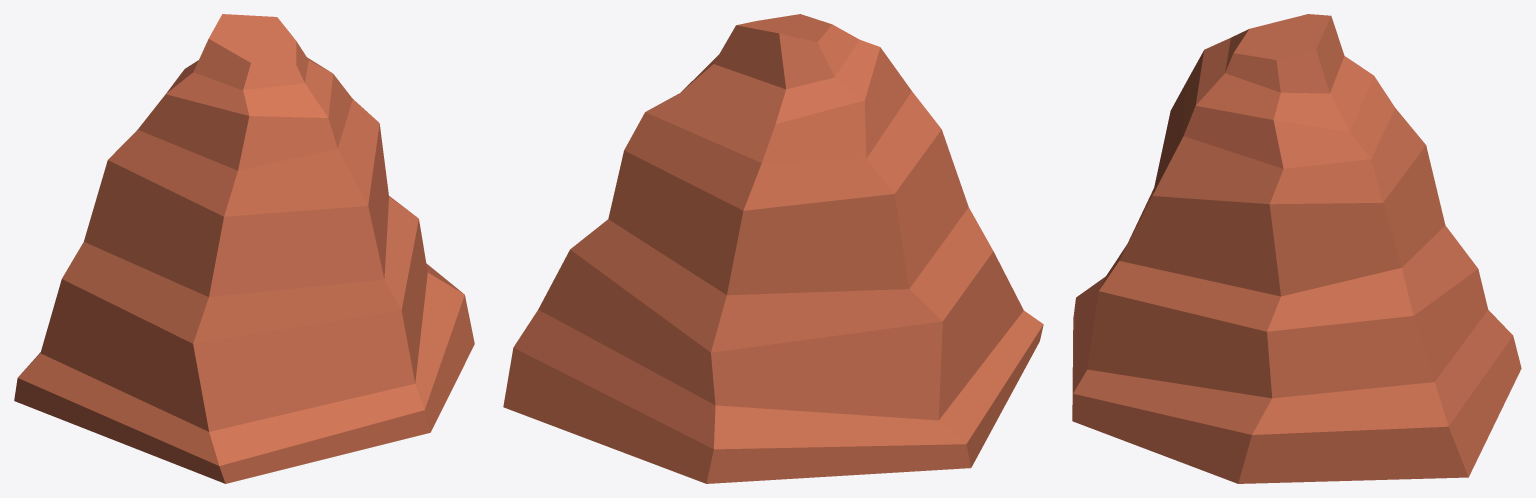
File: Rock_Mesa_Large_1.fbx
3 views of the same model, side by side, from view 1: azimuth 30°, elevation 25°; view 2: azimuth 150°, elevation 25°; view 3: azimuth 270°, elevation 25° (orthographic). The views are drawn at different scales.
Visible parts, largest first — view 1: Rock; view 2: Rock; view 3: Rock.
Part boxes in pixels (x1,y1,x2,y2): Rock: (14,14,474,483); Rock: (503,14,1043,483); Rock: (1072,14,1521,483).
Size of the model in its own units: 201 by 167 by 186.
